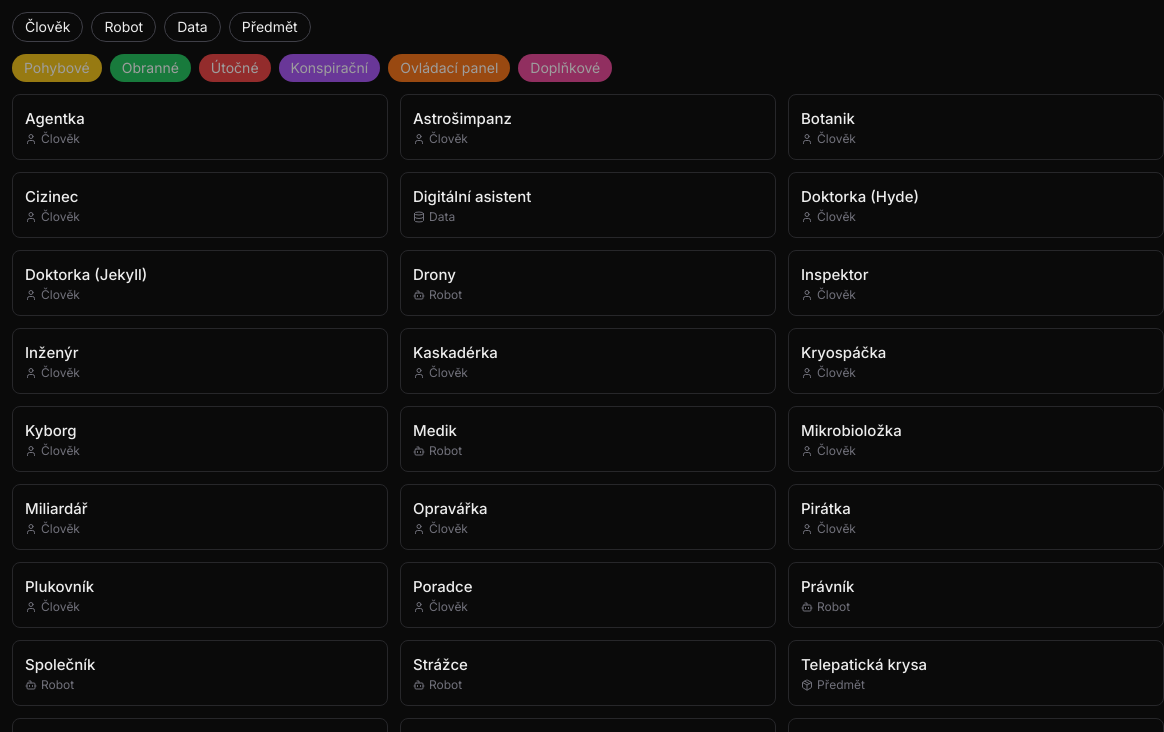
Test case: CharacterList › filters by ability category and can reset
Click the button "Konspirační" at (329, 68), box [278, 54, 380, 82]
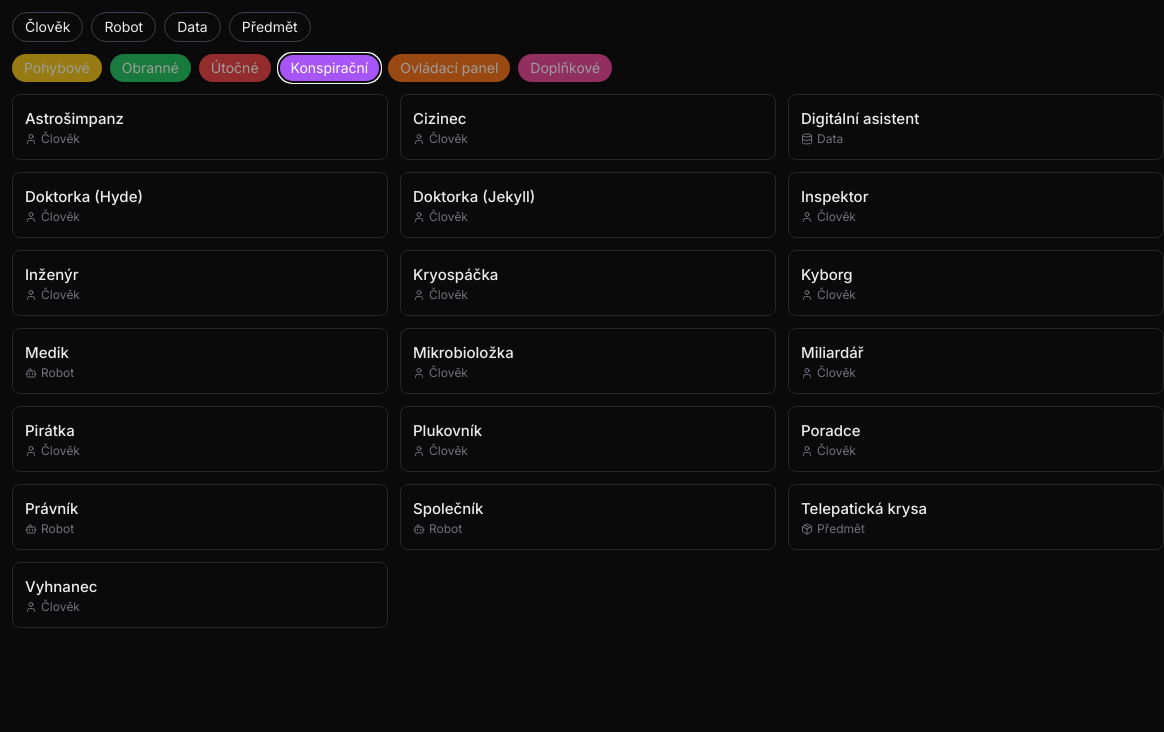
Expected: the link "Astrošimpanz Člověk" is shown, [12, 94, 388, 160]
Note: toggling off restores the full list
Click the button "Konspirační" at (329, 68), box [278, 54, 380, 82]
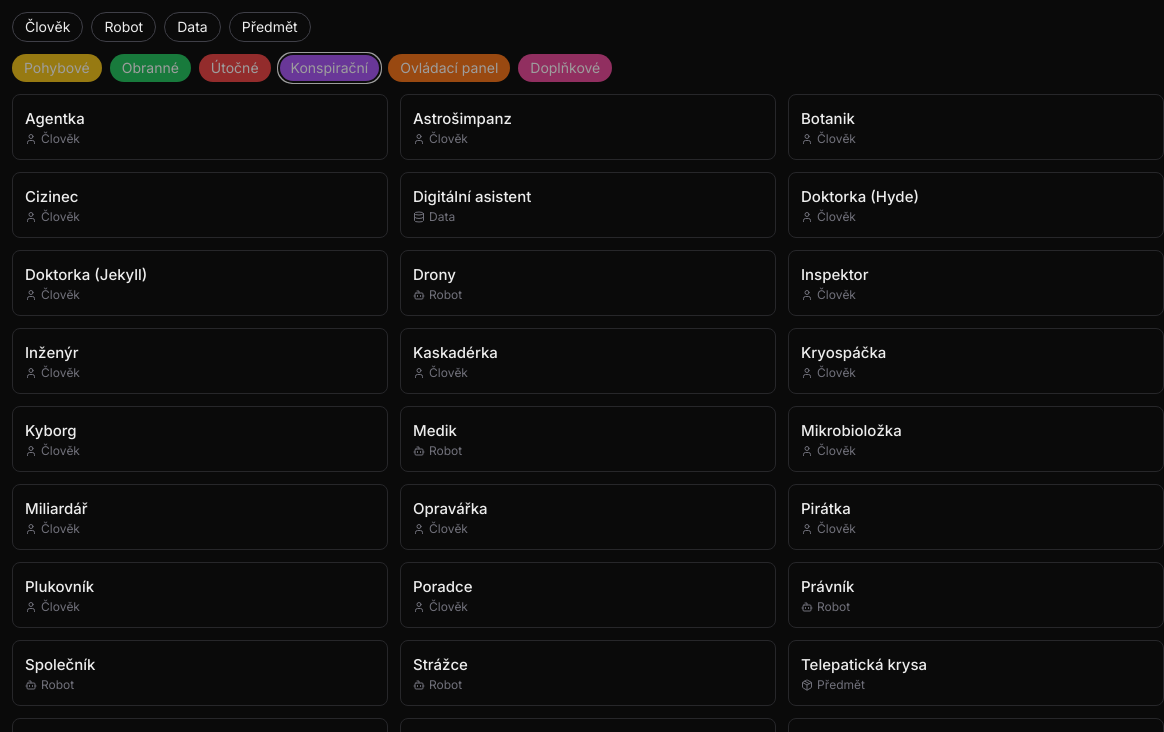
Expected: the number of links is 28
